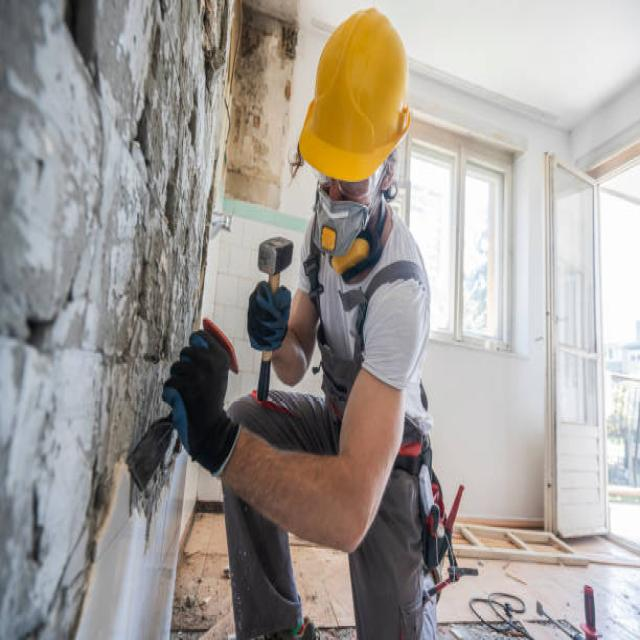Gloves: (160, 321, 243, 480), (244, 276, 295, 355)
helmet: (294, 5, 416, 191)
person: (159, 4, 443, 640)
